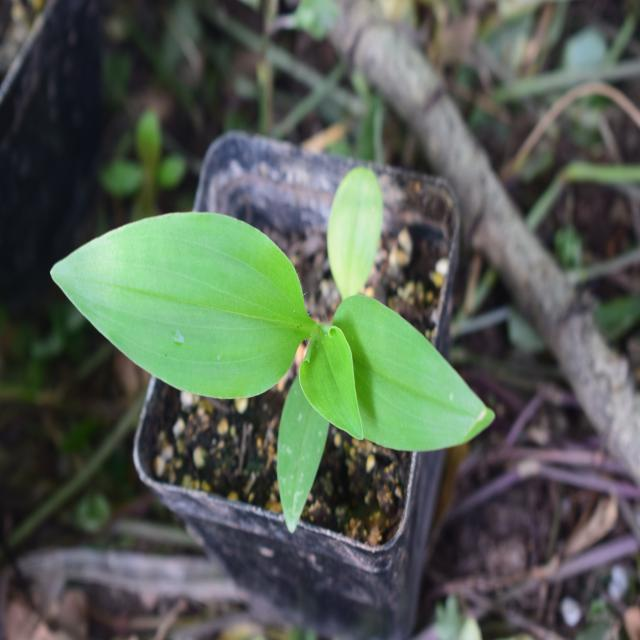Common Dayflower: (43, 188, 464, 491)
